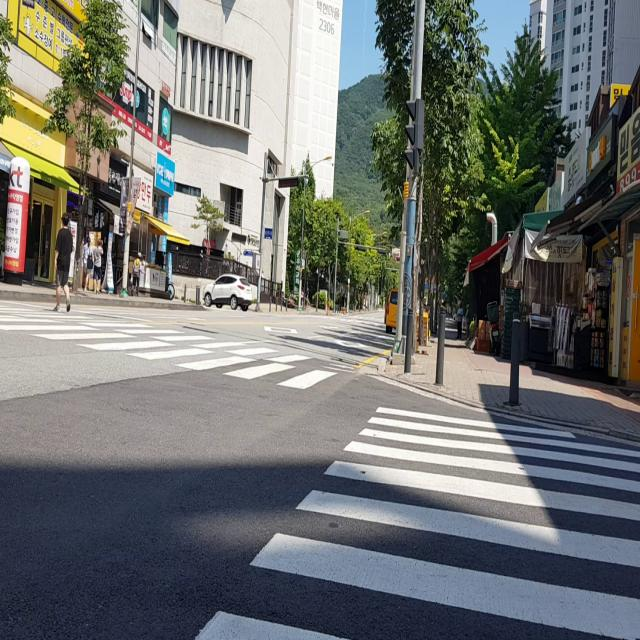횡단보도: (192, 398, 640, 640), (0, 300, 351, 392)
